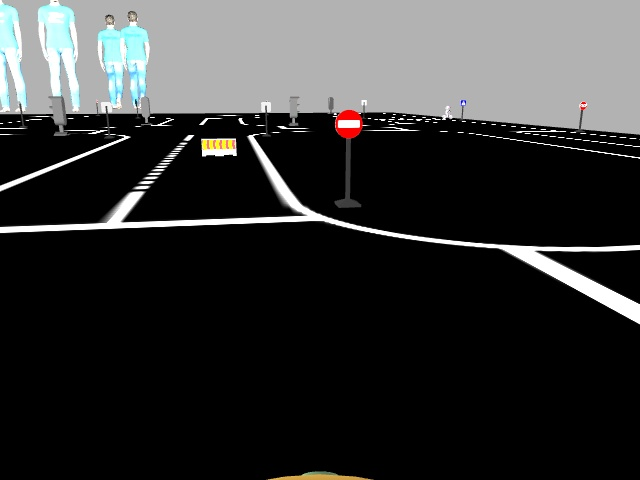ClosedRoadStand: (203, 138, 236, 154)
NoEntry: (334, 112, 359, 138)
